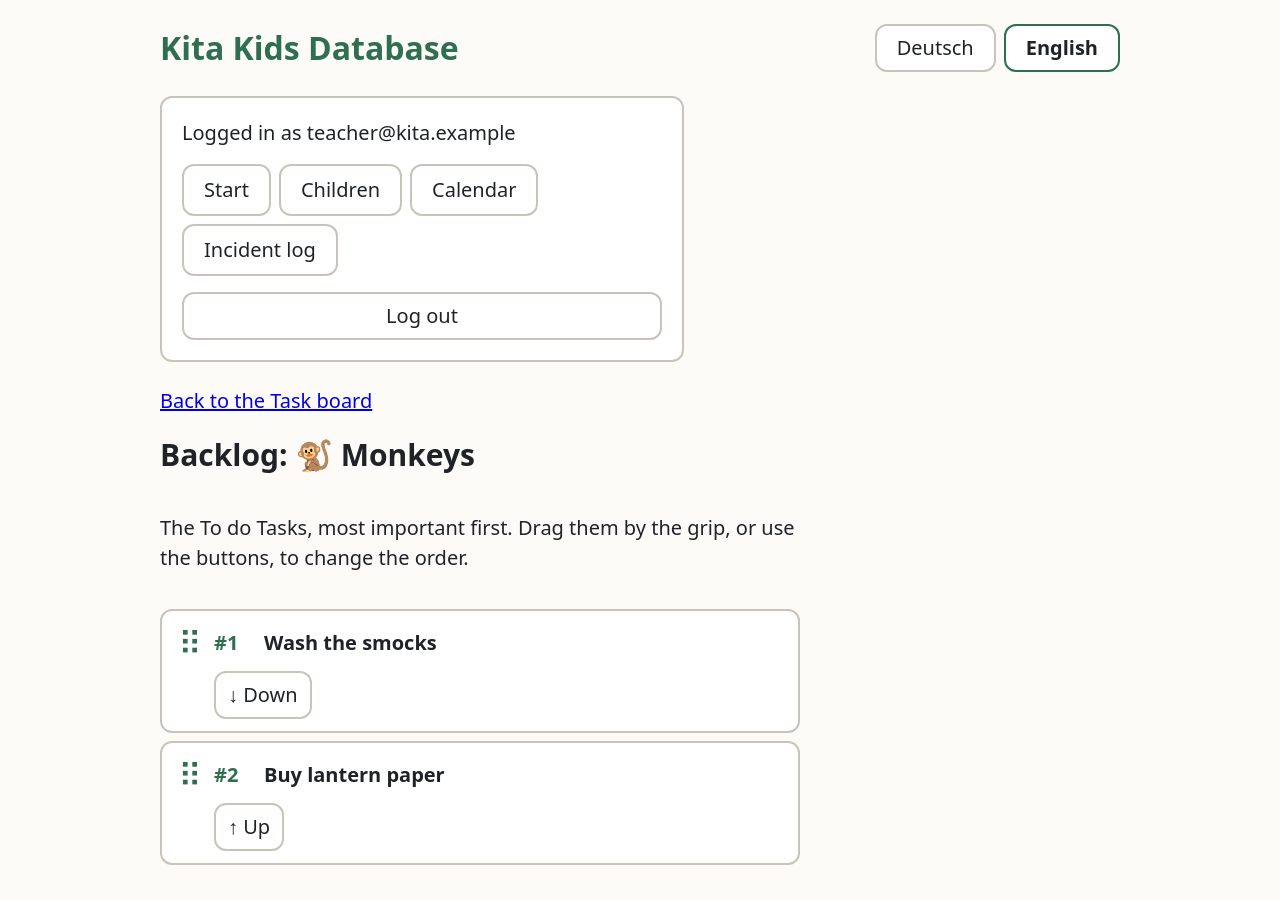
Scenario: Backlog › says so when someone else changed the backlog meanwhile
The image size is (1280, 900).
Click the button with aria-label "Move Buy lantern paper up": {"x": 249, "y": 827} [214,803,284,851]
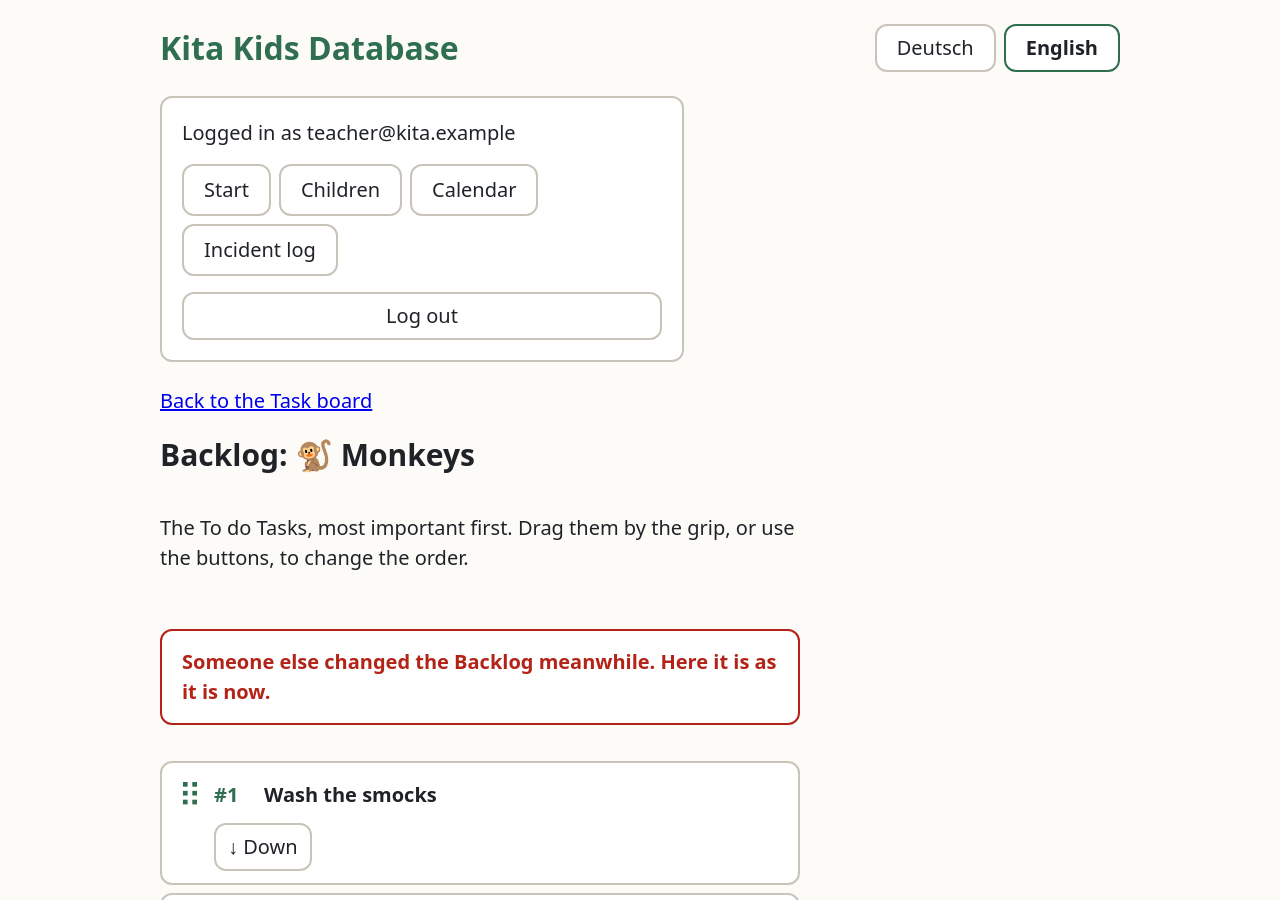
Expected: the message reads "Someone else changed the Backlog meanwhile. Here it is as it is now.", [182,648,777,705]
